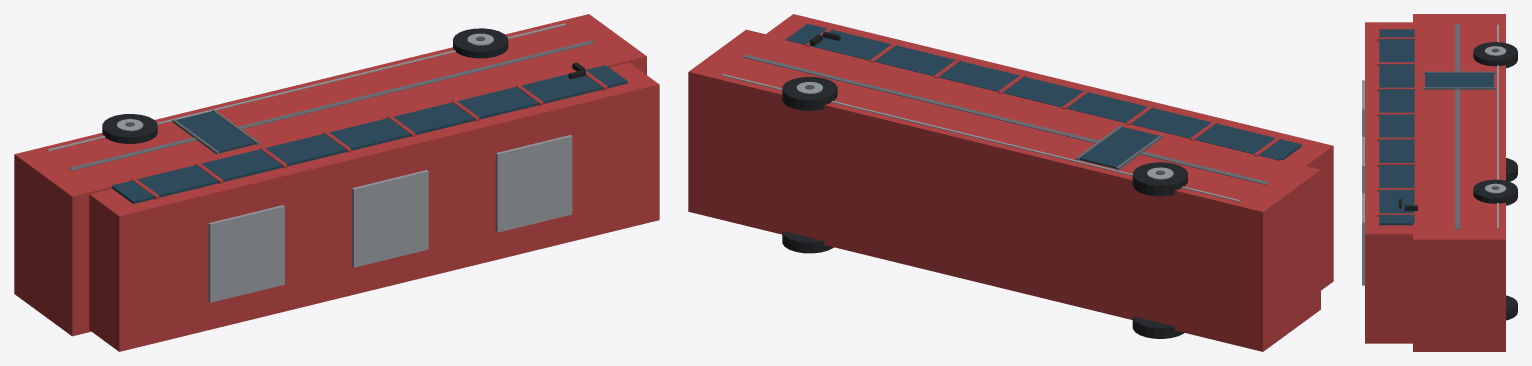
The model's file is RM_Bus_42.glb.
3 renders of one model, left to right at view 1: azimuth 30°, elevation 25°; view 2: azimuth 150°, elevation 25°; view 3: azimuth 270°, elevation 25°, orthographic. The views are drawn at different scales.
Parts seen in each view (by area): view 1: part_001, part_000, part_002, part_039, part_038, part_037, part_013, part_040, part_030, part_024, part_014; view 2: part_000, part_002, part_001, part_013, part_040, part_024, part_030, part_014, part_021, part_027; view 3: part_000, part_001, part_002, part_013, part_040, part_024, part_030, part_014, part_039, part_027, part_021, part_042 (+5 smaller).
Boxes of the visible parts, left/top/right/bottom form: part_001: left=89, top=62, right=659, bottom=351; part_000: left=14, top=14, right=646, bottom=336; part_002: left=111, top=65, right=627, bottom=203; part_039: left=495, top=135, right=572, bottom=232; part_038: left=352, top=170, right=428, bottom=267; part_037: left=208, top=205, right=284, bottom=302; part_013: left=68, top=40, right=594, bottom=170; part_040: left=176, top=111, right=255, bottom=153; part_030: left=453, top=28, right=508, bottom=58; part_024: left=102, top=114, right=157, bottom=143; part_014: left=47, top=23, right=565, bottom=151; part_000: left=688, top=29, right=1320, bottom=351; part_002: left=785, top=23, right=1301, bottom=160; part_001: left=766, top=14, right=1333, bottom=290; part_013: left=743, top=54, right=1268, bottom=184; part_040: left=1079, top=127, right=1158, bottom=168; part_024: left=1132, top=162, right=1187, bottom=196; part_030: left=782, top=76, right=837, bottom=110; part_014: left=721, top=74, right=1239, bottom=201; part_021: left=1132, top=316, right=1184, bottom=338; part_027: left=782, top=230, right=833, bottom=253; part_000: left=1413, top=14, right=1505, bottom=351; part_001: left=1365, top=22, right=1412, bottom=343; part_002: left=1379, top=29, right=1414, bottom=225; part_013: left=1455, top=23, right=1460, bottom=229; part_040: left=1425, top=73, right=1493, bottom=87; part_024: left=1473, top=42, right=1517, bottom=68; part_030: left=1473, top=179, right=1517, bottom=205; part_014: left=1497, top=24, right=1498, bottom=228; part_039: left=1362, top=193, right=1364, bottom=285; part_027: left=1506, top=295, right=1517, bottom=320; part_021: left=1506, top=158, right=1517, bottom=181; part_042: left=1423, top=87, right=1495, bottom=89.
Bounding box in the file's own units: 11.22 × 2.93 × 3.28.
